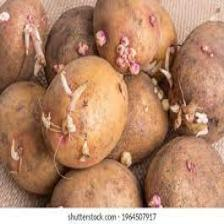Bud: (59, 85, 90, 137), (22, 10, 46, 60), (182, 102, 211, 136), (114, 37, 139, 76), (149, 78, 171, 113), (7, 139, 26, 175), (78, 131, 92, 166), (160, 64, 177, 92), (171, 96, 185, 130), (56, 65, 72, 94), (146, 190, 168, 210), (140, 57, 162, 76), (30, 60, 48, 82), (201, 42, 219, 64), (161, 42, 176, 68), (120, 151, 138, 172), (184, 157, 202, 175), (40, 110, 52, 135), (77, 41, 90, 60), (146, 14, 160, 30), (93, 29, 107, 44), (55, 201, 65, 211)
Sprouted potato: (37, 56, 131, 170), (162, 1, 224, 149), (98, 64, 176, 168), (0, 77, 66, 194), (92, 0, 183, 82), (32, 0, 109, 87), (140, 140, 224, 214), (38, 158, 146, 208), (0, 0, 51, 89)
